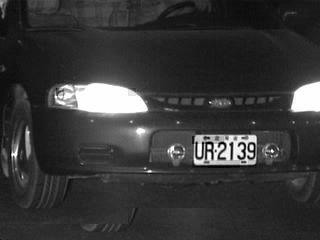plate: (192, 132, 258, 168)
